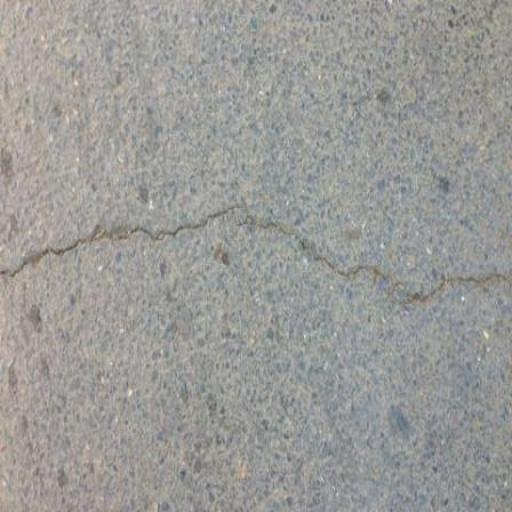spalling: (7, 177, 505, 318)
